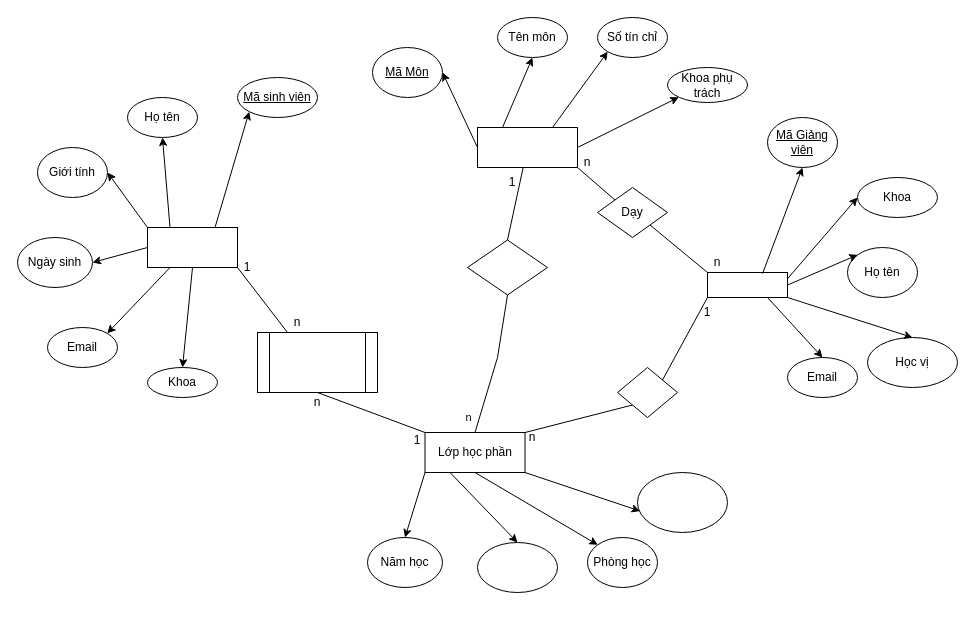
Some shapes in this 975 by 618 pixel diagram are drawn without their labels. The box of each missing label's shape, as (x1, y1, x2, y2) in pixels:
có: (616, 366, 678, 418)
Giảng viên: (706, 272, 788, 298)
Học kỳ: (476, 542, 558, 592)
Mã lớp học phần: (636, 472, 728, 532)
Môn Học: (476, 126, 578, 168)
Sinh viên: (146, 226, 238, 268)
thuộc: (466, 239, 548, 295)
Đăng ký: (256, 332, 378, 392)
